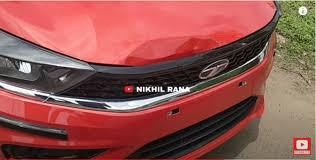bonnet-dent: (3, 0, 274, 73)
